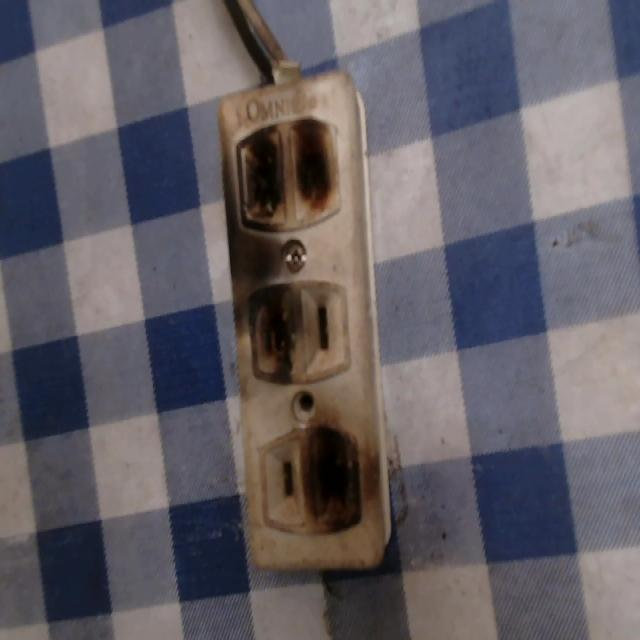-: (229, 113, 343, 235), (242, 278, 310, 390), (304, 421, 367, 527)
